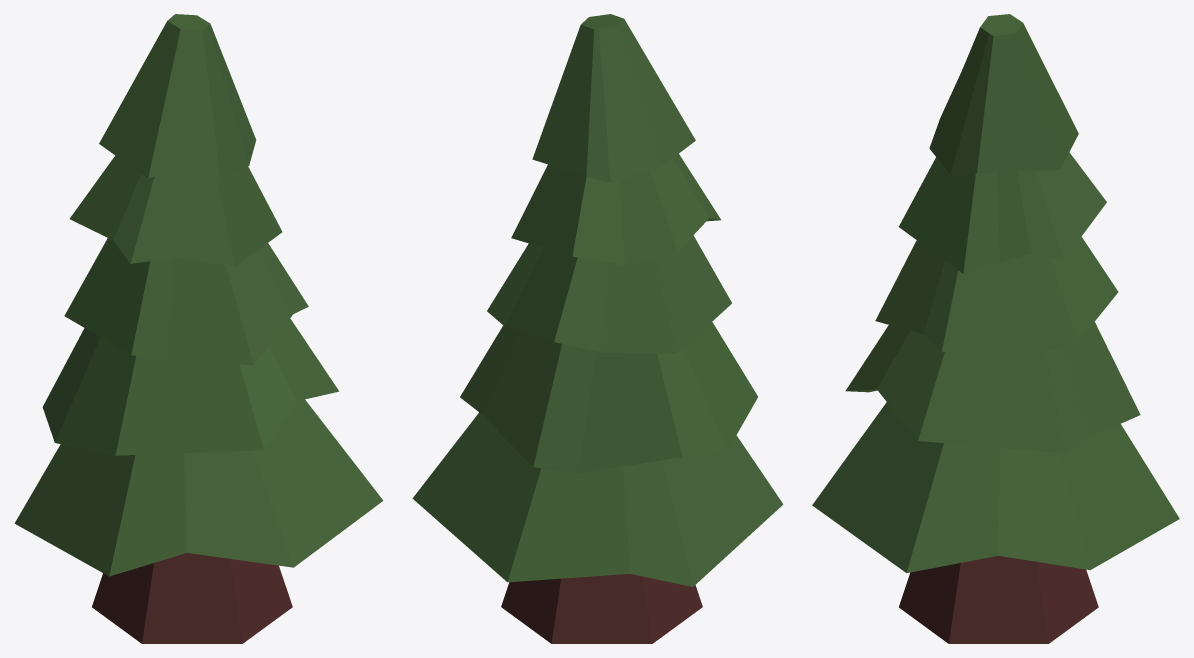
Rendered from Tree_2.fbx.
3 views of the same model, side by side, from view 1: azimuth 30°, elevation 25°; view 2: azimuth 150°, elevation 25°; view 3: azimuth 270°, elevation 25° (orthographic).
Parts seen in each view (by area): view 1: Cylinder.005; view 2: Cylinder.005; view 3: Cylinder.005.
Boxes of the visible parts, x1,y1,x2,y2 form: Cylinder.005: (14, 14, 383, 643); Cylinder.005: (412, 14, 783, 643); Cylinder.005: (812, 14, 1179, 643).
Bounding box in the file's own units: 293 × 590 × 337.
